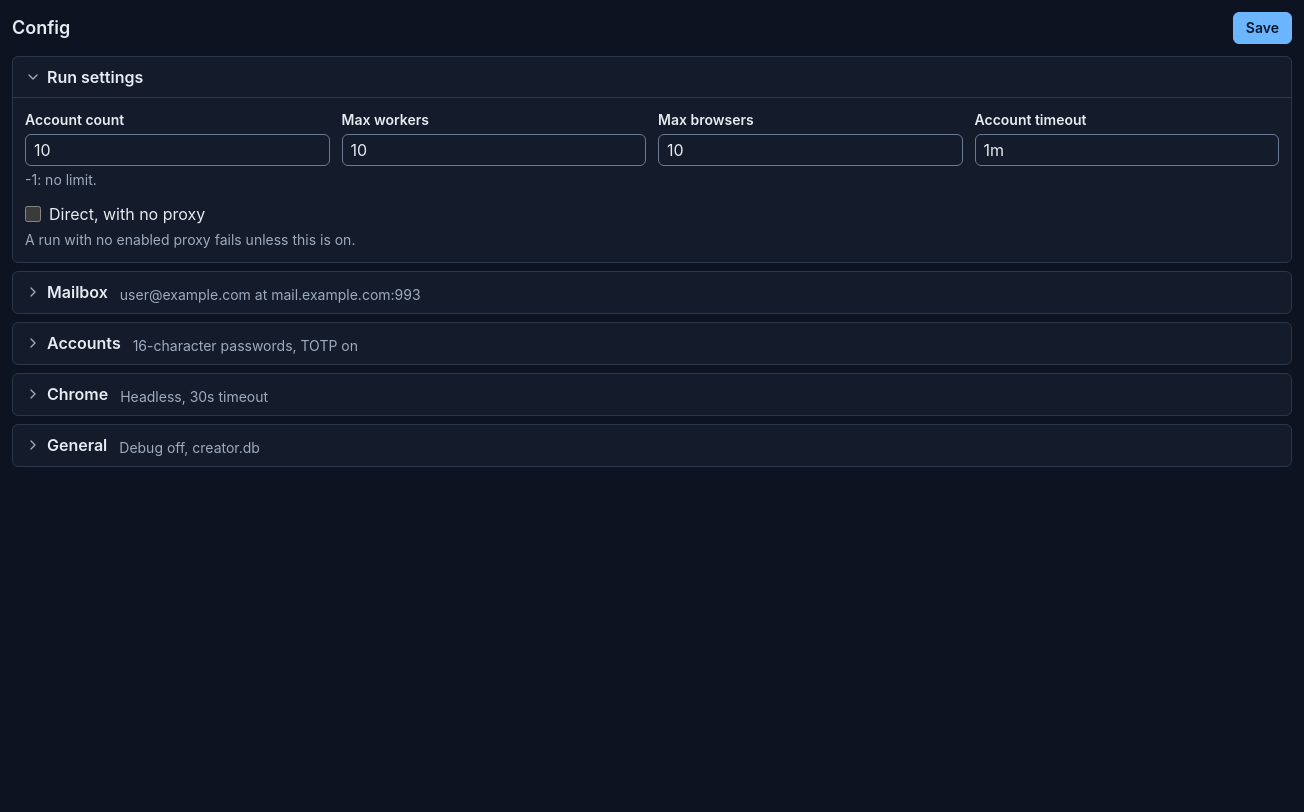
RunForm › shows a failed save request
Click the heading "Mailbox".
click(223, 292)  # box [25,282,421,303]
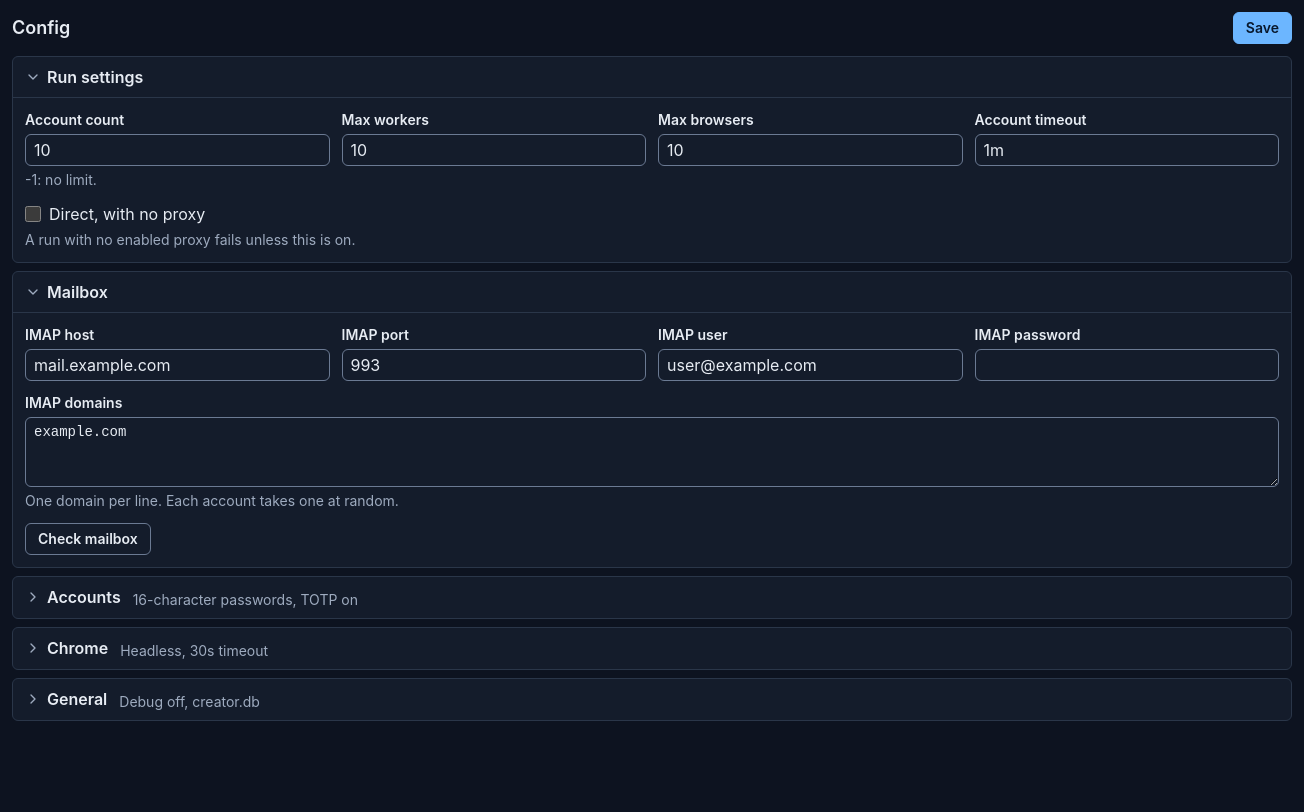
Expected: the password field labelled "IMAP password" is shown, [974,349,1279,381]
Click the button "Save".
click(1262, 28)  # box [1233,12,1292,44]
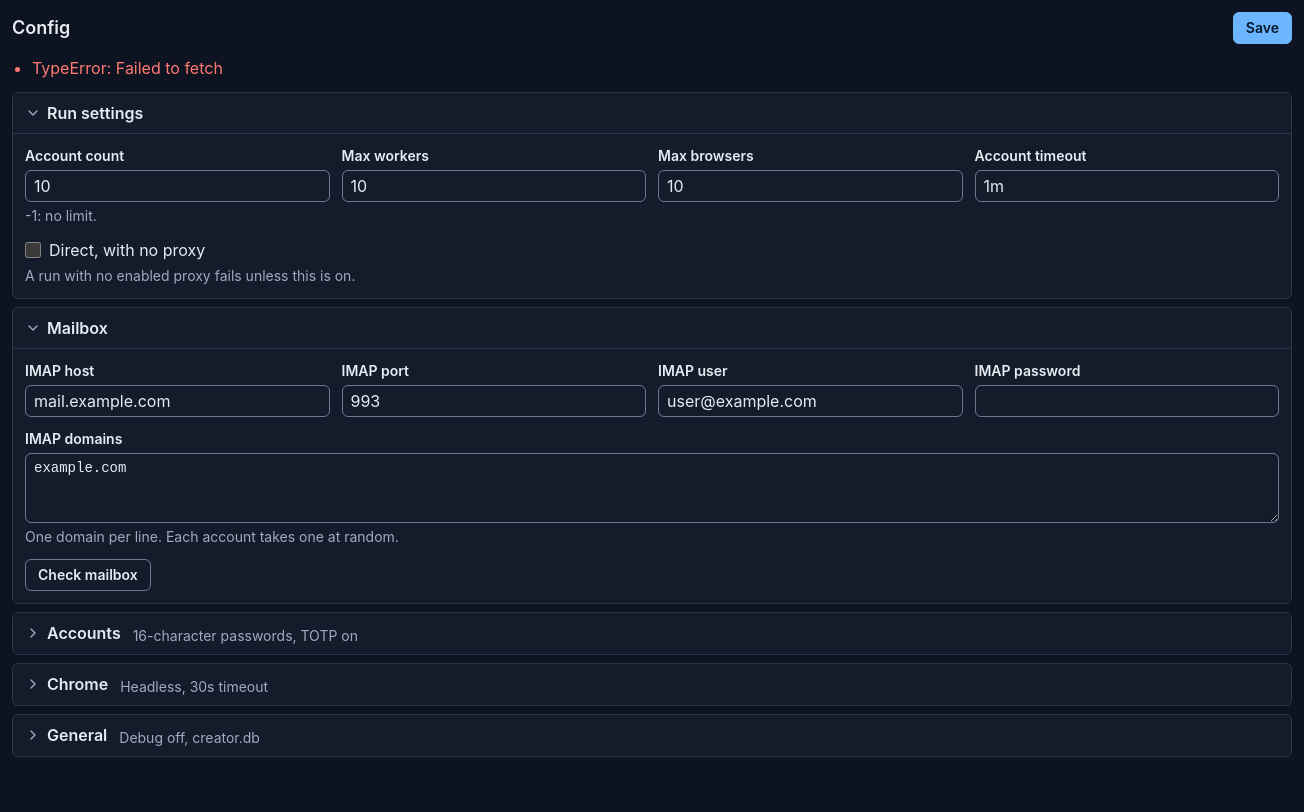
Expected: the message named "Save errors" reads "TypeError: Failed to fetch", [32,58,223,78]
